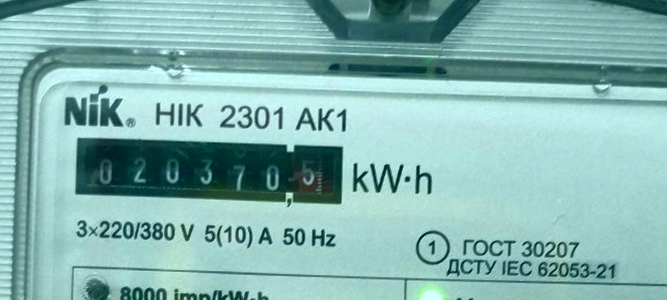0: (263, 162, 282, 193), (97, 155, 114, 185), (165, 155, 181, 184)
2: (131, 154, 150, 186)
3: (198, 155, 215, 186)
5: (300, 156, 319, 188)
7: (230, 162, 246, 193)
screen: (68, 131, 352, 214)
